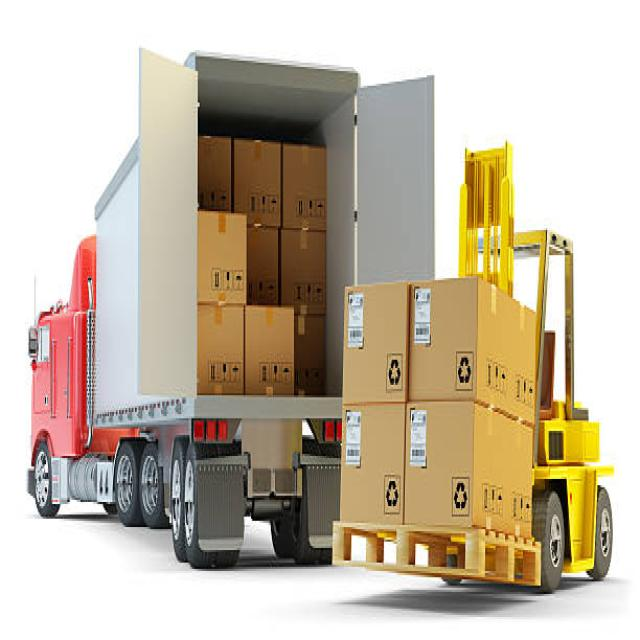Wooden-Pallets: (335, 523, 539, 590)
